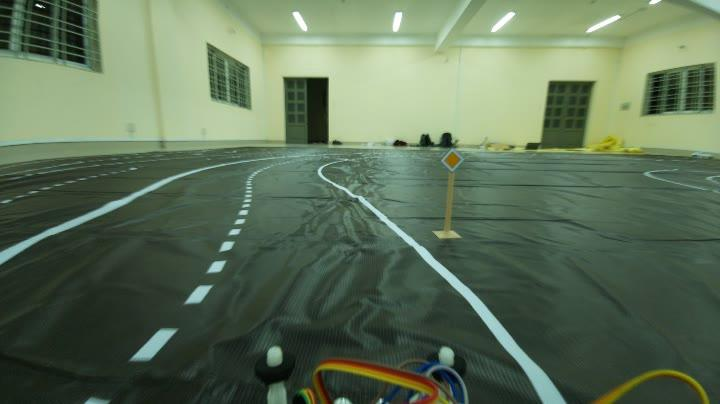priority: (439, 140, 467, 174)
